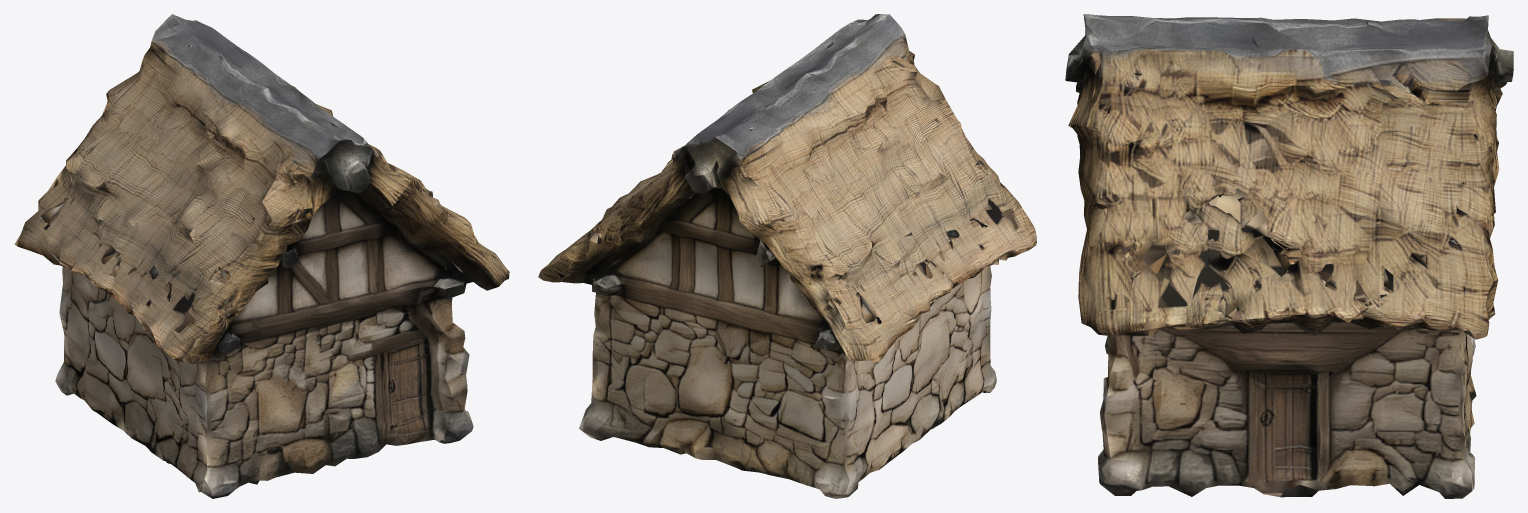
Rendered from peasant_house_b.glb.
3 views of the same model, side by side, from view 1: azimuth 30°, elevation 25°; view 2: azimuth 150°, elevation 25°; view 3: azimuth 270°, elevation 25° (orthographic). The views are drawn at different scales.
Parts seen in each view (by area): view 1: Cottage; view 2: Cottage; view 3: Cottage.
Boxes of the visible parts, <box> form: Cottage: <box>14,14,509,498</box>; Cottage: <box>538,14,1036,498</box>; Cottage: <box>1065,14,1513,498</box>.
Size of the model in its own units: 5.19 by 5 by 4.98.
Materials: 1 (1 with a texture image).
